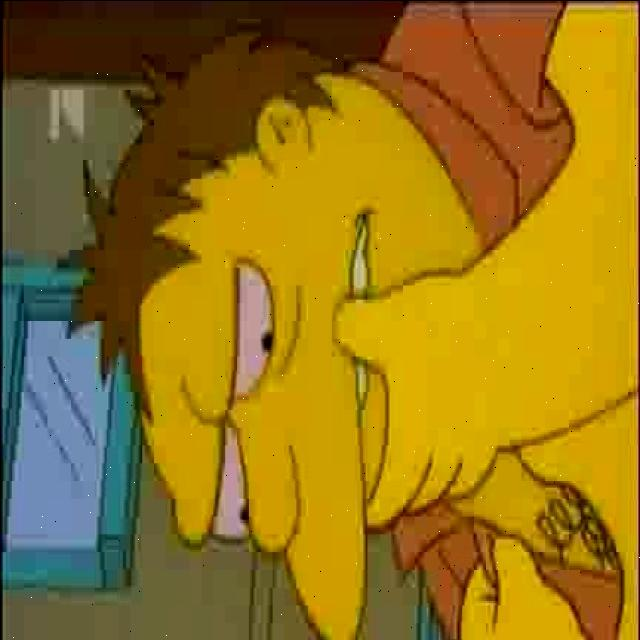Barney Gumble: (59, 22, 486, 640)
